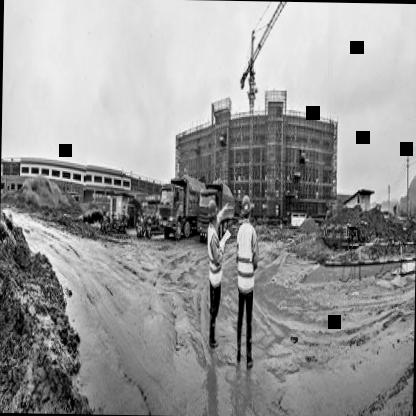helmet: (240, 193, 252, 224), (206, 197, 216, 224)
